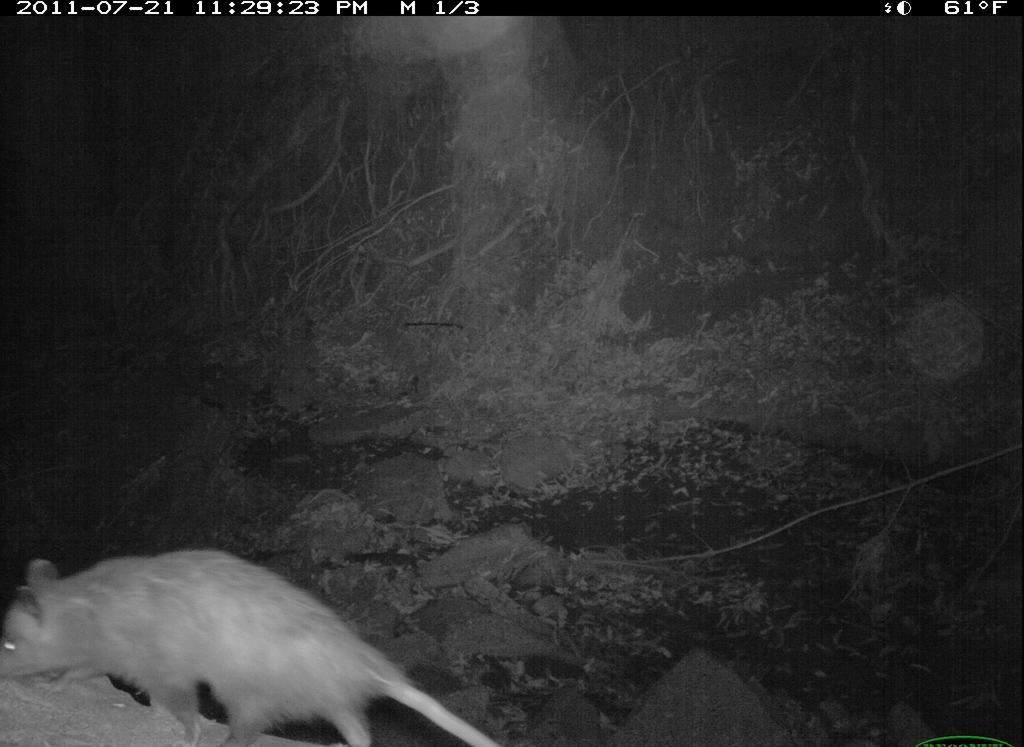opossum: (7, 546, 513, 747)
